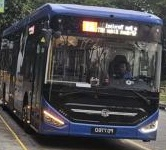bus: (81, 20, 97, 32)
